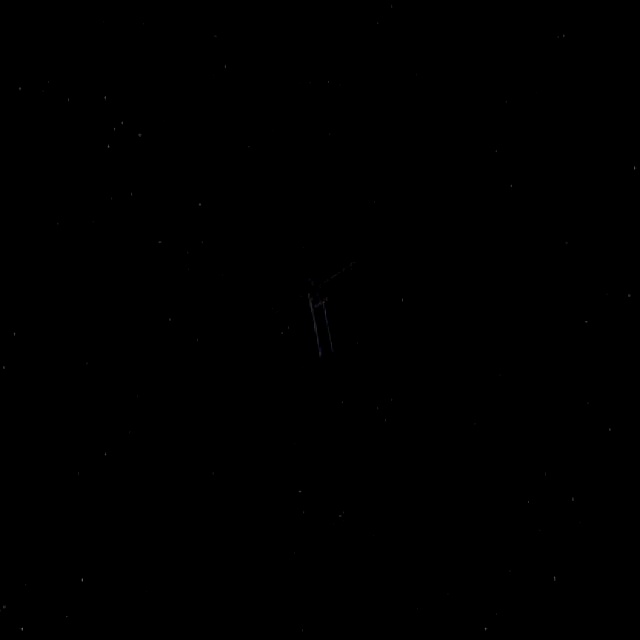satellite: (271, 258, 361, 375)
